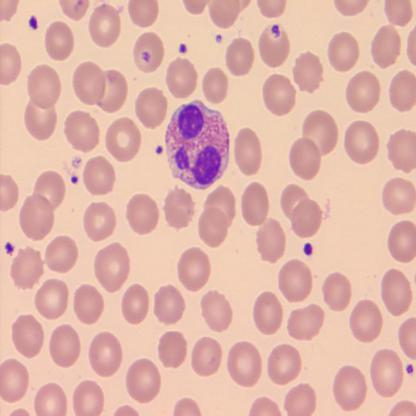Eosinophil: (164, 98, 232, 190)
